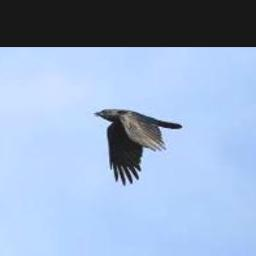Crow: (94, 109, 182, 186)
